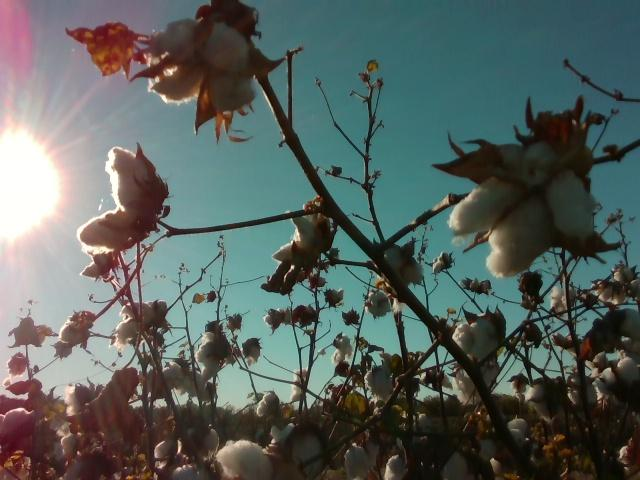cotton_ready: (448, 140, 598, 279), (154, 17, 257, 114), (76, 146, 151, 248), (156, 426, 220, 480), (271, 421, 329, 480), (275, 210, 329, 264), (216, 440, 281, 480), (118, 300, 168, 346), (451, 314, 502, 359), (595, 357, 640, 405), (479, 418, 529, 459), (524, 375, 560, 424), (456, 364, 497, 407), (384, 245, 425, 288), (197, 329, 229, 384), (82, 248, 116, 280), (441, 448, 475, 480)
